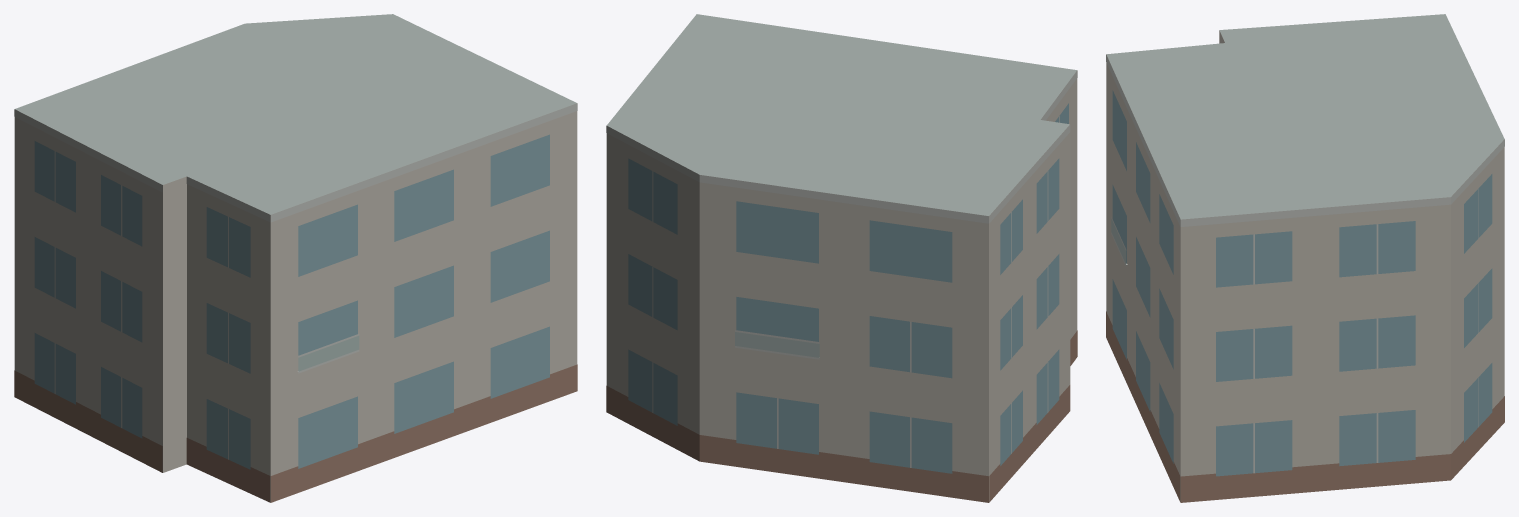
The model's file is survey-upis-33025920.glb.
3 views of the same model, side by side, from view 1: azimuth 30°, elevation 25°; view 2: azimuth 150°, elevation 25°; view 3: azimuth 270°, elevation 25° (orthographic).
Parts seen in each view (by area): view 1: survey-upis-33025920.tmp; view 2: survey-upis-33025920.tmp; view 3: survey-upis-33025920.tmp.
Boxes of the visible parts, x1,y1,x2,y2 form: survey-upis-33025920.tmp: (14,14,577,502); survey-upis-33025920.tmp: (606,14,1077,502); survey-upis-33025920.tmp: (1106,14,1504,502).
Size of the model in its own units: 14.25 by 9.15 by 11.68.
